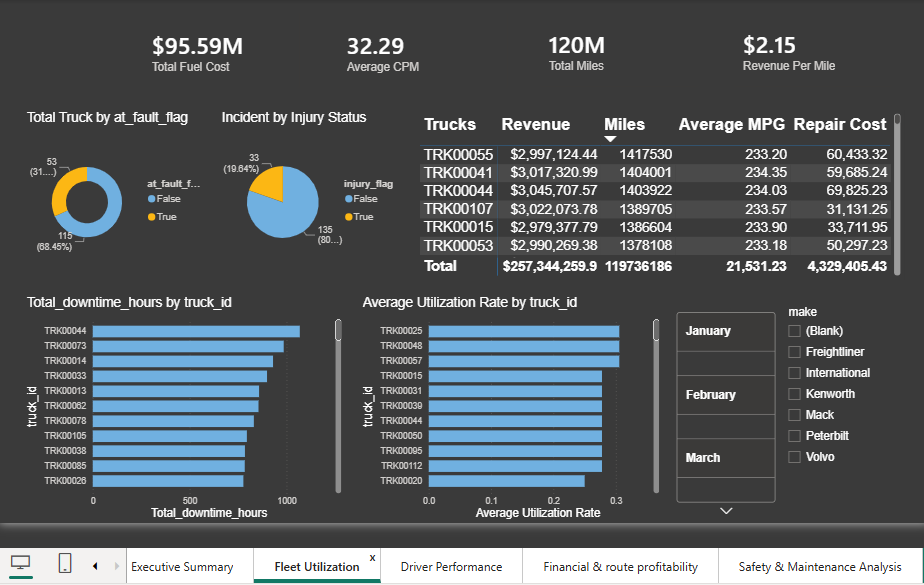

The page's visual inventory and layout, read from the dashboard file:
{"tool":"powerbi","page":{"name":"Fleet Utilization","canvas":[1280,720],"ordinal":1},"visuals":[{"type":"cardVisual","fields":{"Data":["Sum(fleet_utilization.total_miles)"]},"box":[726.7,0,253.2,137],"z":0},{"type":"cardVisual","fields":{"Data":["key_metrics.Revenue Per Mile"]},"box":[993.7,0,253.2,137.6],"z":1000},{"type":"cardVisual","fields":{"Data":["key_metrics.Average CPM"]},"box":[448.7,0,269,139],"z":2000},{"type":"clusteredBarChart","fields":{"Category":["fleet_utilization.truck_id"],"Y":["Sum(fleet_utilization.total_downtime_hours)"]},"box":[33,406,443.2,313.8],"z":3000},{"type":"barChart","fields":{"Category":["trucks.truck_id"],"Y":["key_metrics.Average Utilization Rate"]},"box":[495.5,406,418.4,313.8],"z":4000},{"type":"pivotTable","fields":{"Rows":["trucks.truck_id"],"Values":["Sum(truck_utilization_metrics.total_revenue)","Sum(truck_utilization_metrics.total_miles)","Sum(truck_utilization_metrics.average_mpg)","Sum(truck_utilization_metrics.maintenance_cost)"]},"box":[573.9,151.4,671.7,232.6],"z":5000},{"type":"slicer","fields":{"Values":["trucks.make"]},"box":[1073.5,415.7,172,304.2],"z":6000},{"type":"cardVisual","fields":{"Rows":["trips.dispatch_date.Variation.Date Hierarchy.Month"]},"box":[927.5,405.3,146.6,314.6],"z":7000},{"type":"cardVisual","fields":{"Data":["Sum(fuel_purchases.total_cost)"]},"box":[180.3,0,251.9,139],"z":8000},{"type":"pieChart","title":"Incident by Injury Status","fields":{"Category":["safety_incidents.injury_flag"],"Y":["key_metrics.Total Incidents"]},"box":[301.4,151.4,261.5,232.6],"z":9000},{"type":"donutChart","title":"Total Truck by at_fault_flag","fields":{"Y":["CountNonNull(safety_incidents.truck_id)"],"Category":["safety_incidents.at_fault_flag"]},"box":[33,151.4,256,232.6],"z":10000}]}

Visuals, with their boxes on the page's 1280x720 design canvas (x1, y1, x2, y2). These are canvas units, not pixel positions in the 924x585 screenshot, which may show the page scaled, cropped or inside an application window:
cardVisual - Sum(fleet_utilization.total_miles): [727,0,980,137]
cardVisual - key_metrics.Revenue Per Mile: [994,0,1247,138]
cardVisual - key_metrics.Average CPM: [449,0,718,139]
clusteredBarChart - fleet_utilization.truck_id x Sum(fleet_utilization.total_downtime_hours): [33,406,476,720]
barChart - trucks.truck_id x key_metrics.Average Utilization Rate: [496,406,914,720]
pivotTable - trucks.truck_id x Sum(truck_utilization_metrics.total_revenue): [574,151,1246,384]
slicer - trucks.make: [1074,416,1246,720]
cardVisual - trips.dispatch_date.Variation.Date Hierarchy.Month: [928,405,1074,720]
cardVisual - Sum(fuel_purchases.total_cost): [180,0,432,139]
"Incident by Injury Status" pieChart: [301,151,563,384]
"Total Truck by at_fault_flag" donutChart: [33,151,289,384]
